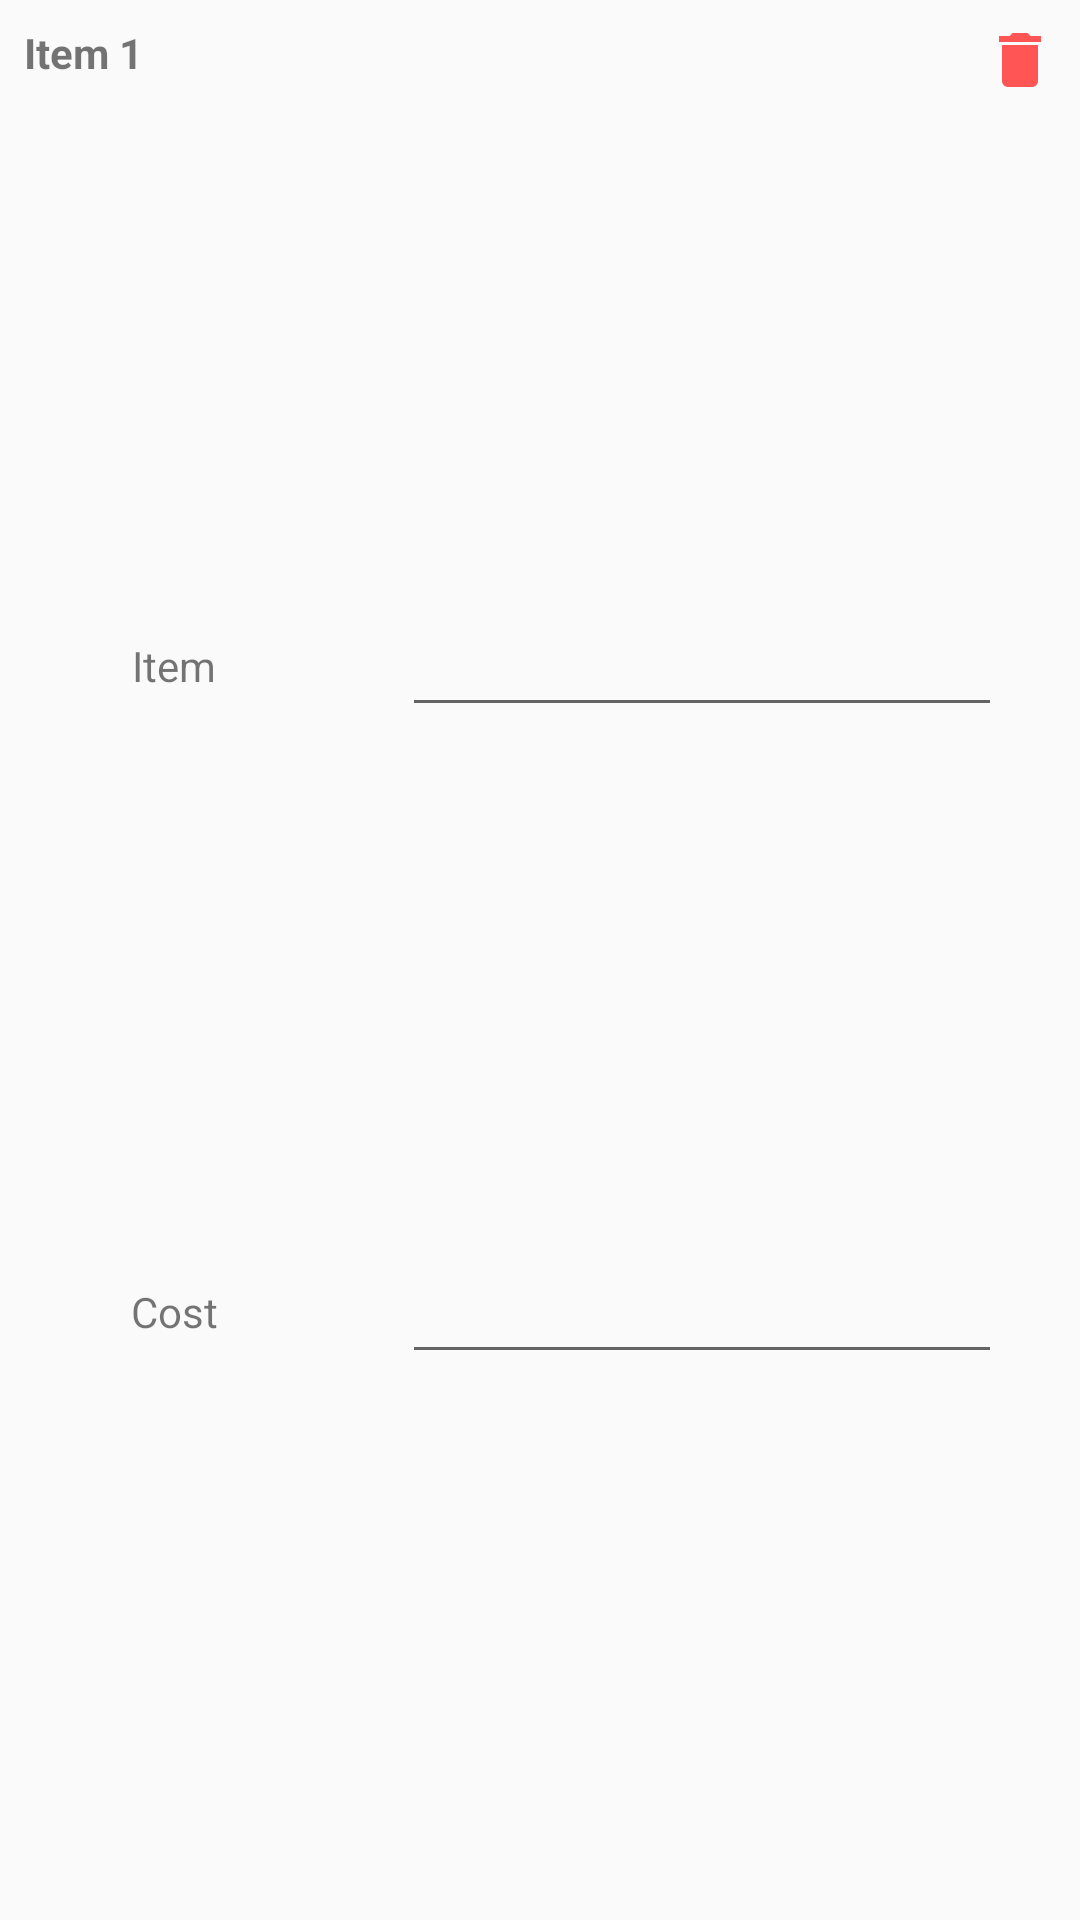

Screen size 1080x1920. Icon name, then its box in pixels as region(x1, y1, x2, y2):
delete: region(999, 33, 1041, 87)
